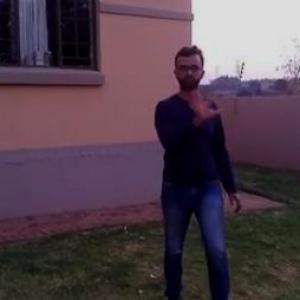follow_hand: (189, 80, 226, 126)
